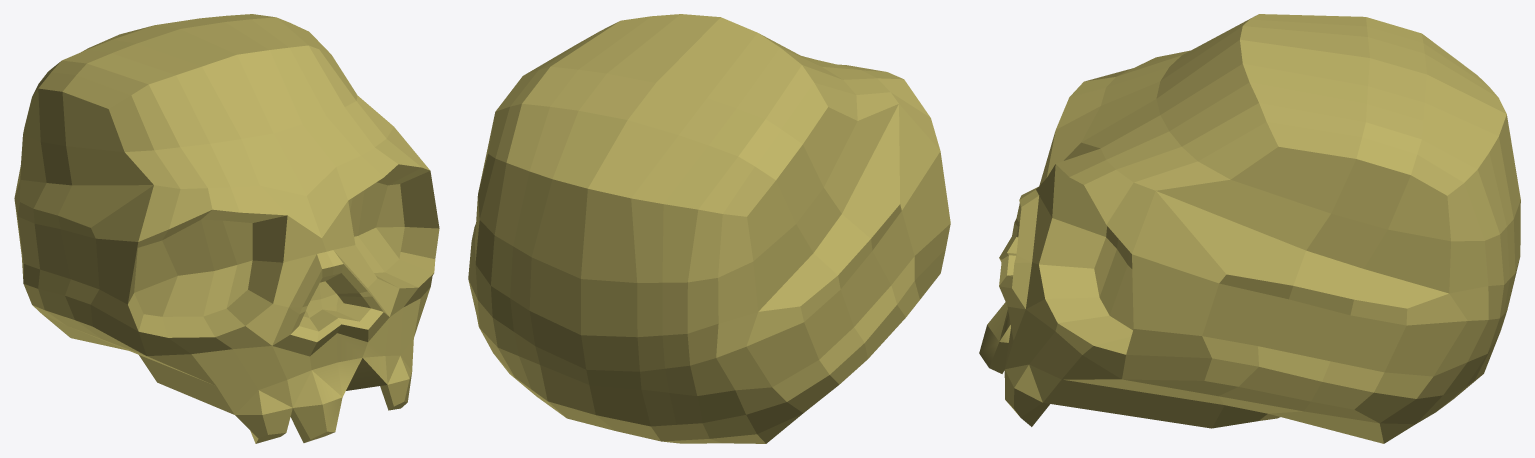
Rendered from Homo Luzonensis Skull.fbx.
3 views of the same model, side by side, from view 1: azimuth 30°, elevation 25°; view 2: azimuth 150°, elevation 25°; view 3: azimuth 270°, elevation 25° (orthographic). The views are drawn at different scales.
Parts seen in each view (by area): view 1: Bungo; view 2: Bungo; view 3: Bungo.
Boxes of the visible parts, <box> form: Bungo: <box>14,14,439,443</box>; Bungo: <box>468,14,950,443</box>; Bungo: <box>979,14,1520,443</box>.
Size of the model in its own units: 587 by 535 by 739.
